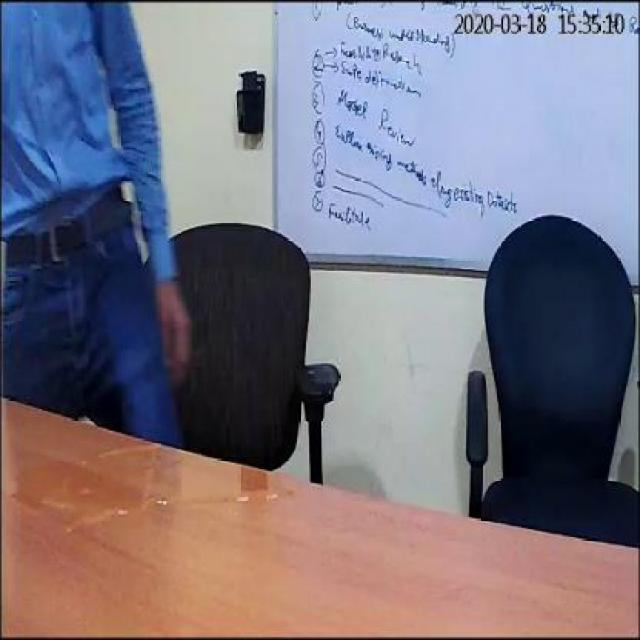spill: (14, 437, 310, 531)
